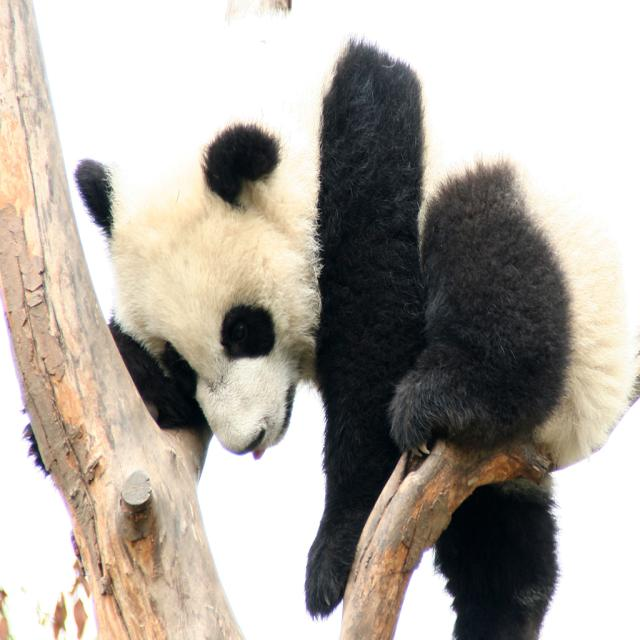panda: (21, 6, 640, 640)
